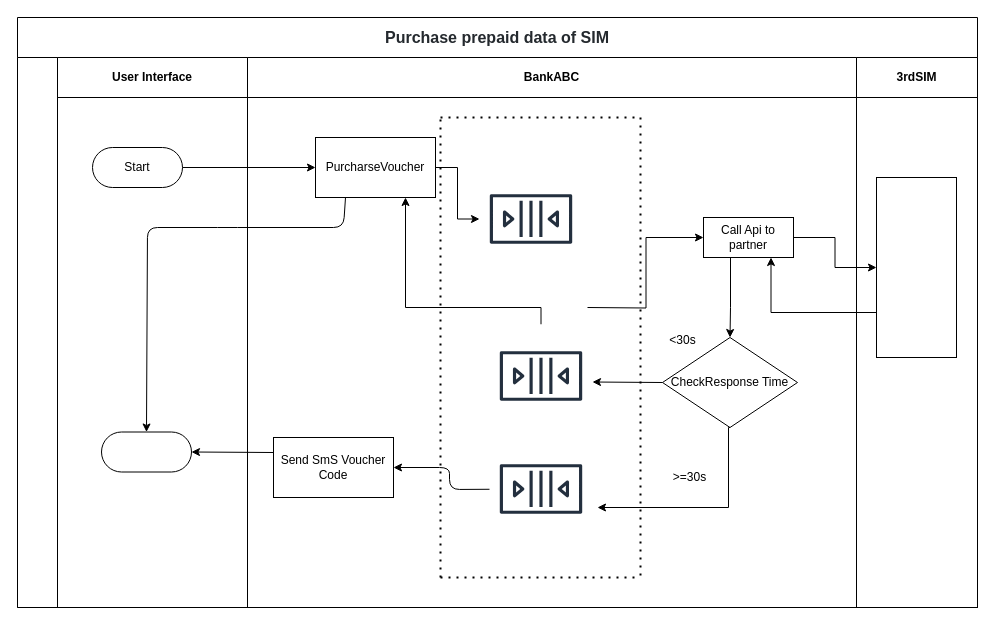
The diagram is 995 pixels wide and 625 high, and some of its shapes have lost their labels. The centre of each missing label's shape, as x and y in pixels:
"End" goes at point 146,451.
"Provide Voucher Code" goes at point 916,267.
"Queue Request" goes at point 530,218.
"Queue Response" goes at point 540,376.
"Queue SendSMS" goes at point 540,488.
